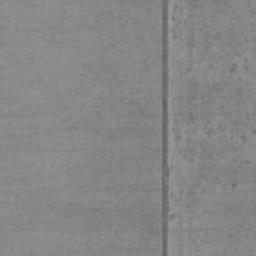Welding line: (160, 0, 172, 256)
